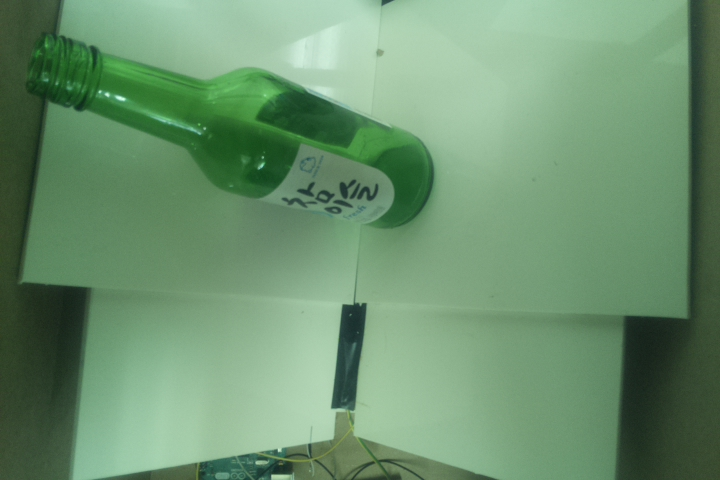soju: (20, 30, 437, 231)
